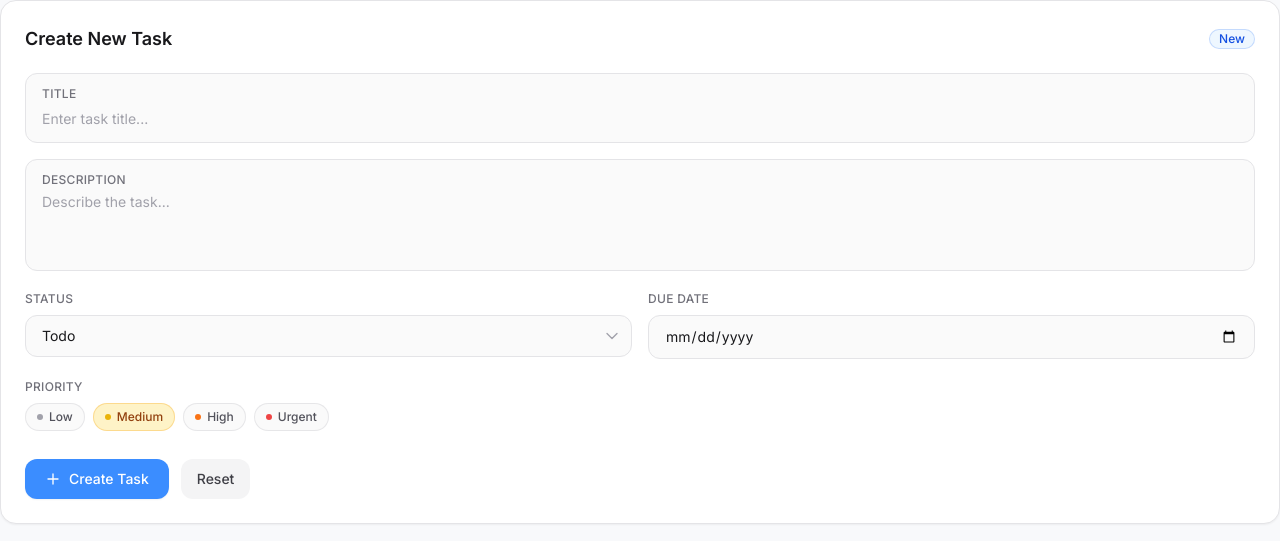
TaskForm Component › reset button clears form in create mode
The image size is (1280, 541).
Type "Something" into the field labelled "Title" at (640, 119), box [42,109,1238,129]
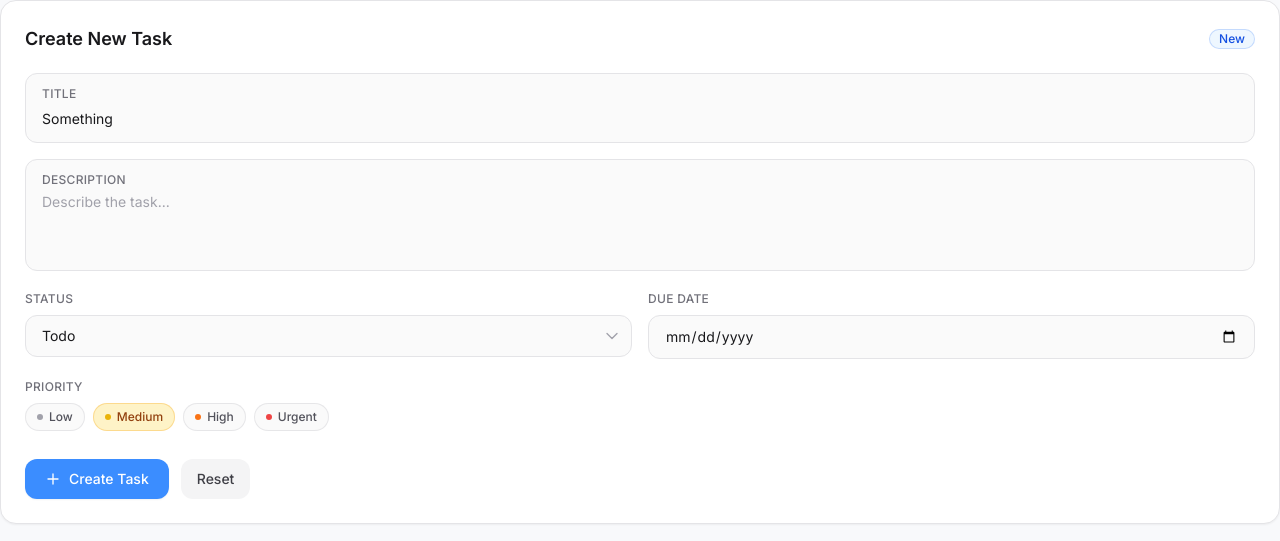
Type "Some desc" into the text box labelled "Description" at (640, 222), box [42,192,1238,252]
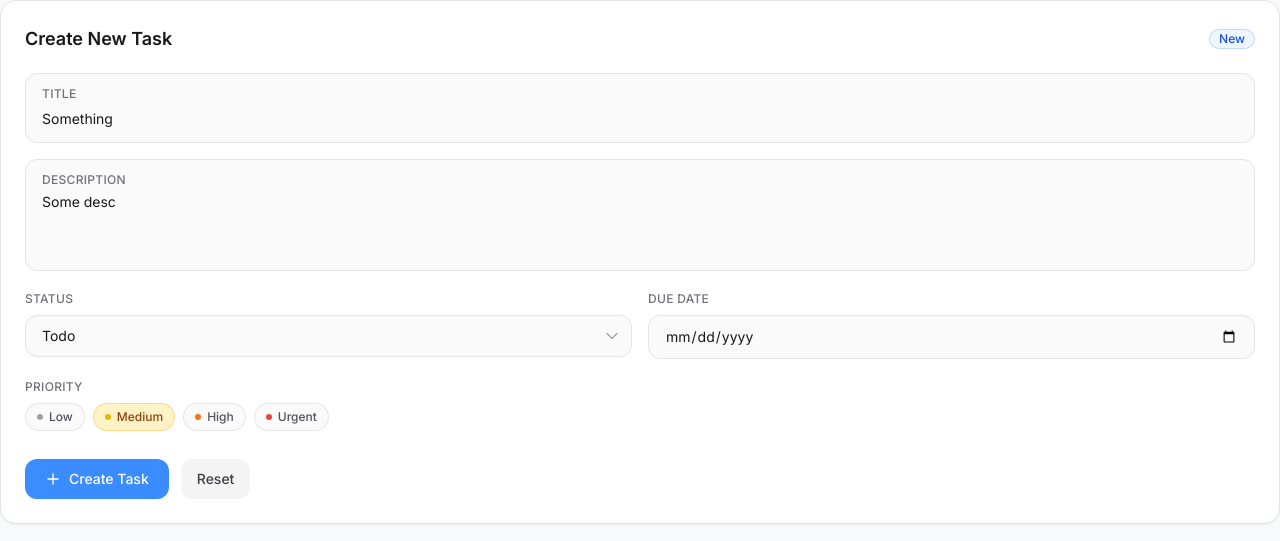
Click the button "Reset" at (216, 479), box [181,459,250,499]
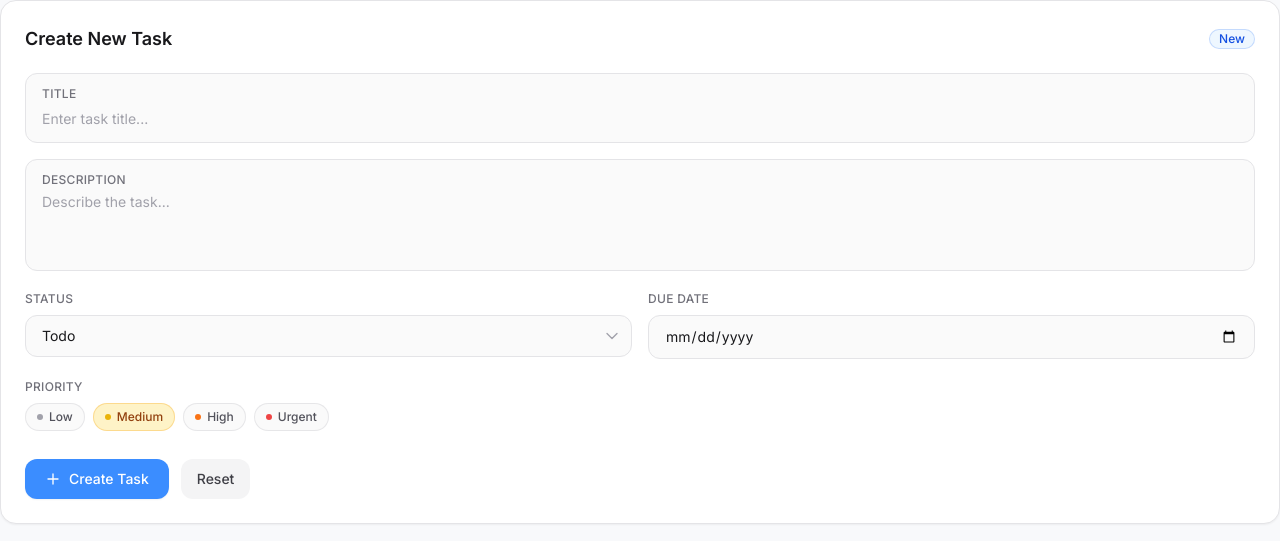
Now the field labelled "Title" is empty, box [42,109,1238,129]
Now the text box labelled "Description" is empty, box [42,192,1238,252]
